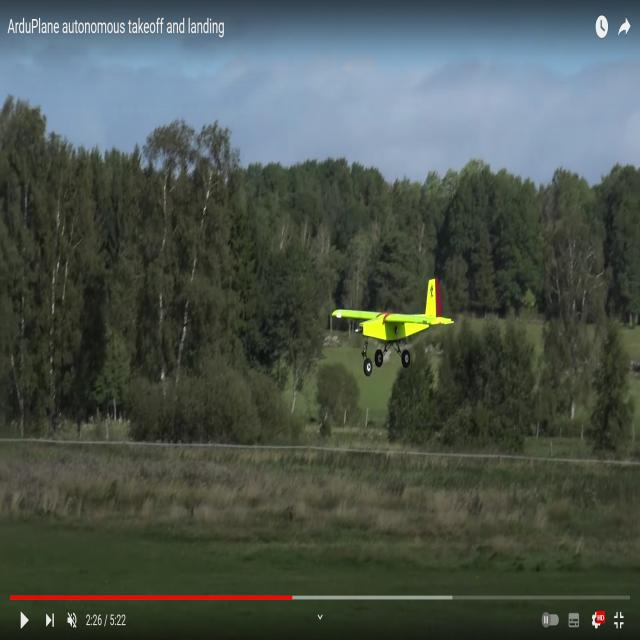iha: (355, 311, 416, 340)
